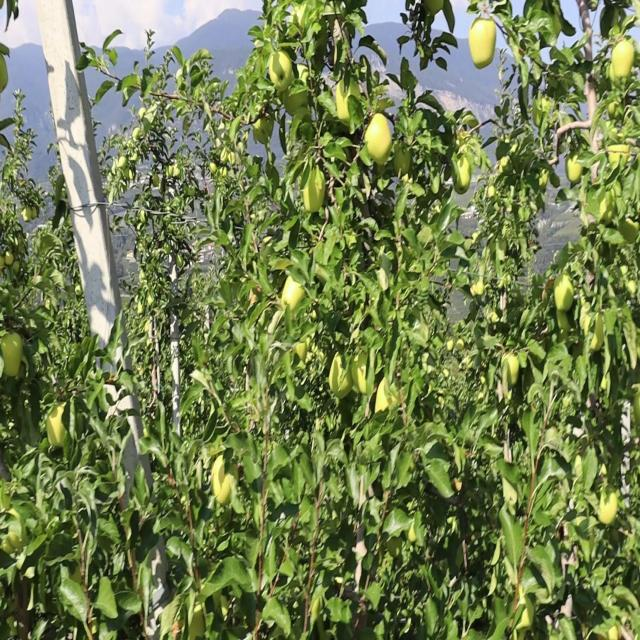apple: (468, 21, 498, 71), (368, 113, 393, 164), (268, 49, 294, 92), (336, 78, 360, 123), (304, 170, 328, 213), (212, 462, 235, 505), (612, 42, 635, 82), (48, 405, 68, 448), (332, 355, 352, 398), (376, 376, 399, 412), (452, 156, 472, 197), (4, 334, 24, 375), (352, 348, 369, 396), (600, 7, 622, 43), (556, 277, 576, 313), (600, 490, 620, 526), (284, 277, 305, 311), (252, 113, 275, 144), (500, 355, 520, 388), (188, 604, 207, 638), (516, 597, 534, 631), (284, 92, 308, 116), (608, 142, 629, 169), (600, 191, 616, 226), (396, 149, 413, 180), (620, 220, 640, 245), (608, 63, 625, 91), (568, 156, 584, 185), (188, 568, 204, 597), (4, 355, 23, 377), (288, 7, 301, 37), (580, 305, 591, 338), (608, 99, 624, 121), (0, 56, 9, 92), (296, 7, 306, 36), (296, 341, 309, 363), (472, 277, 485, 299), (632, 391, 640, 425), (4, 248, 16, 270), (592, 328, 603, 352), (428, 0, 443, 16), (540, 170, 549, 192), (628, 277, 637, 299), (116, 156, 128, 172), (452, 476, 464, 492), (128, 149, 140, 164), (588, 0, 600, 14), (492, 305, 500, 324), (228, 149, 237, 164), (456, 341, 466, 354), (24, 206, 32, 222), (408, 526, 416, 542), (220, 149, 228, 164), (176, 255, 184, 270), (172, 625, 181, 638), (32, 206, 40, 220), (448, 341, 455, 354), (212, 163, 218, 176), (140, 213, 147, 224), (128, 170, 135, 181), (176, 163, 181, 178), (168, 163, 173, 178), (152, 177, 160, 185)
